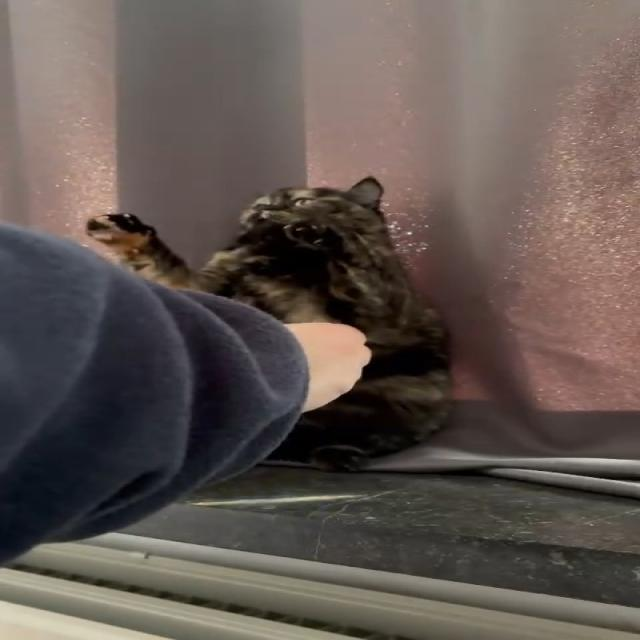authorized: (84, 174, 455, 472)
